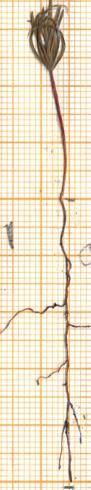flower: (19, 0, 79, 77)
root: (0, 197, 91, 489)
stem: (46, 74, 70, 199)
